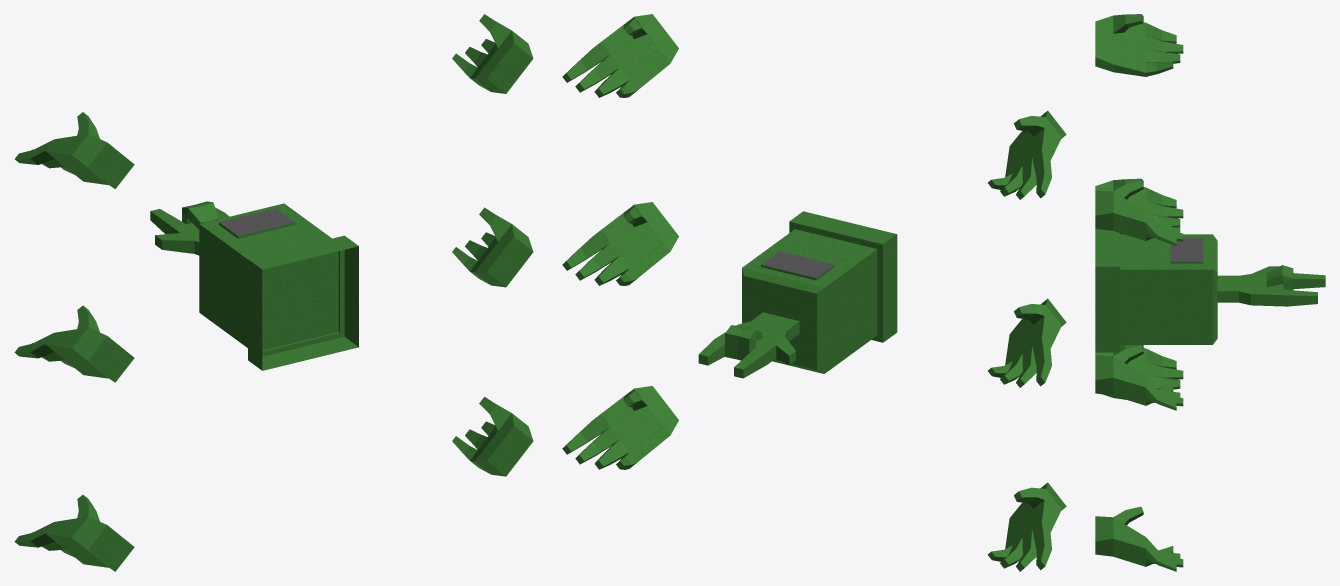
The model's file is statue_symbol_hand.FBX.
3 views of the same model, side by side, from view 1: azimuth 30°, elevation 25°; view 2: azimuth 150°, elevation 25°; view 3: azimuth 270°, elevation 25° (orthographic). The views are drawn at different scales.
Visible parts, largest first — view 1: statue_1; view 2: statue_1; view 3: statue_1.
Part boxes in pixels (x1,y1,x2,y2): statue_1: [14, 14, 533, 571]; statue_1: [562, 14, 1066, 571]; statue_1: [1095, 14, 1325, 571].
Bounding box in the file's own units: 334 × 292 × 157.
